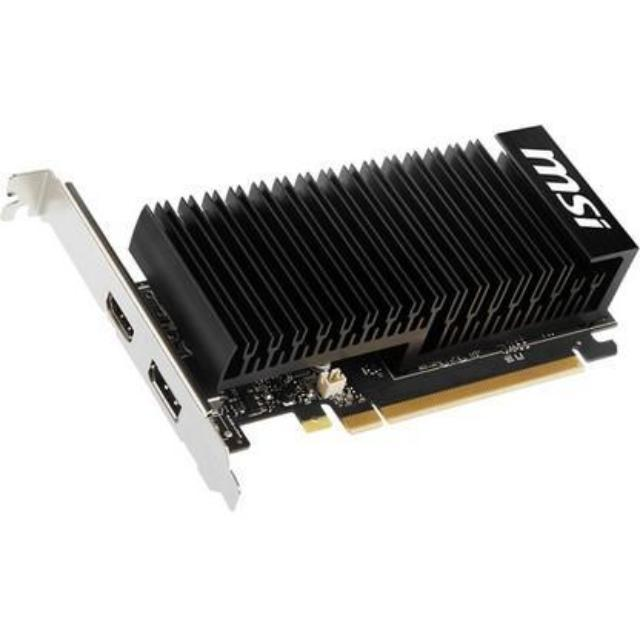GPU: (28, 119, 640, 452)
